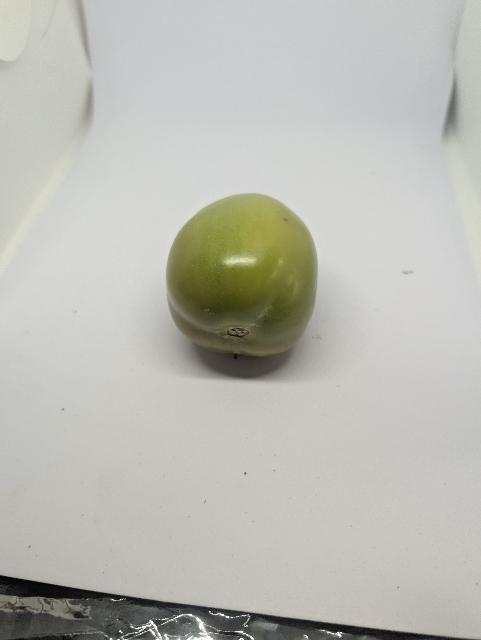green: (165, 191, 323, 359)
